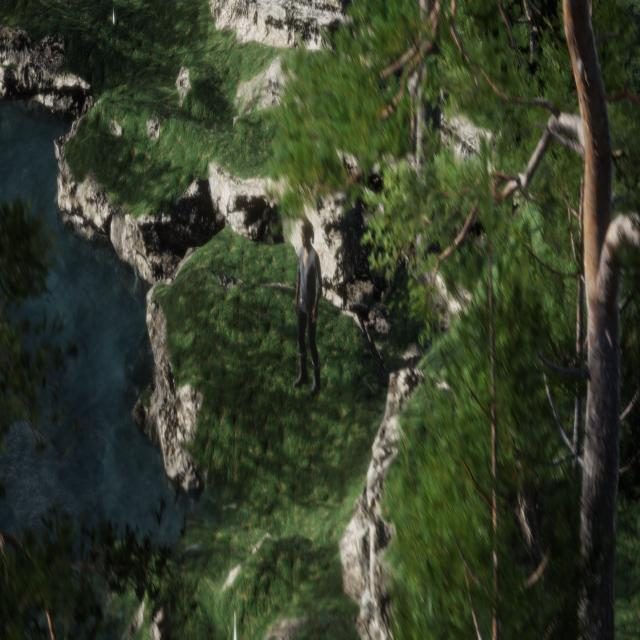Human: (284, 212, 329, 412)
